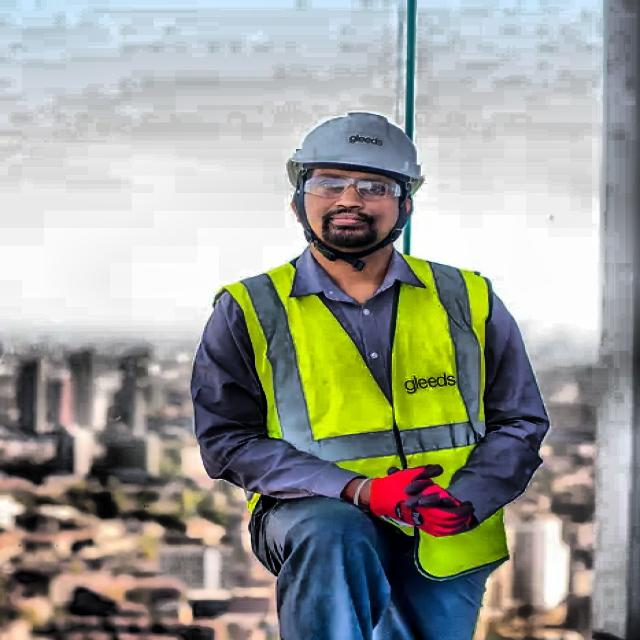safety_helmet: (259, 104, 428, 200)
safety_jacket: (206, 256, 549, 602)
